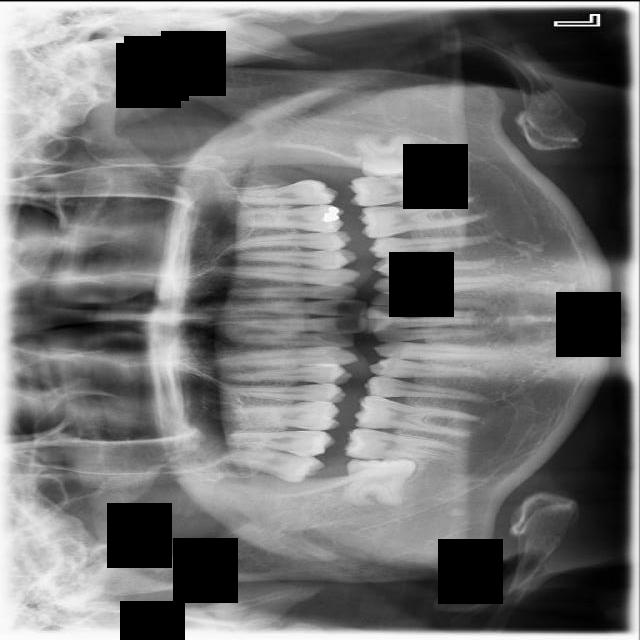3M ESPE Implant: (213, 447, 325, 484)
52: (299, 201, 346, 233)
73: (544, 52, 578, 56)
BioHorizons Implant: (219, 178, 339, 206)
Biomet 3i Implant: (354, 130, 431, 179)
Blue Sky Bio Implant: (347, 172, 470, 207)
Caries: (226, 428, 335, 459)
Implant: (342, 425, 459, 471)
Keystone Dental Implant: (341, 450, 418, 512)
